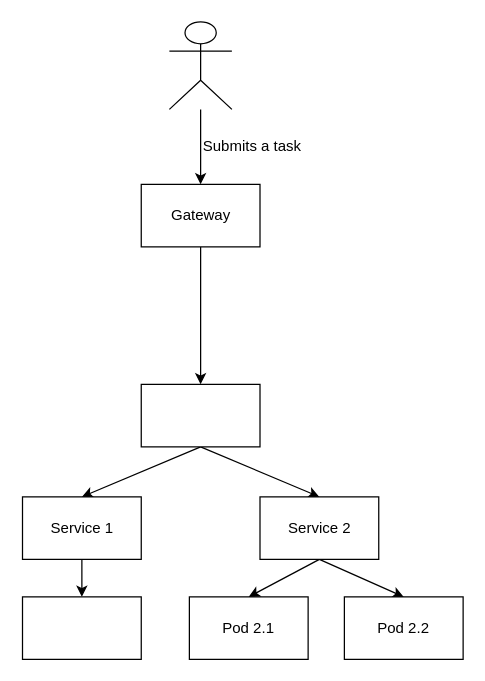
Some shapes in this 485 by 681 pixel diagram are drawn without their labels. Each missing label, with the centre of its shape:
"Loadbalancer" belongs at (200,415).
"Pod 1.1" belongs at (81,627).
